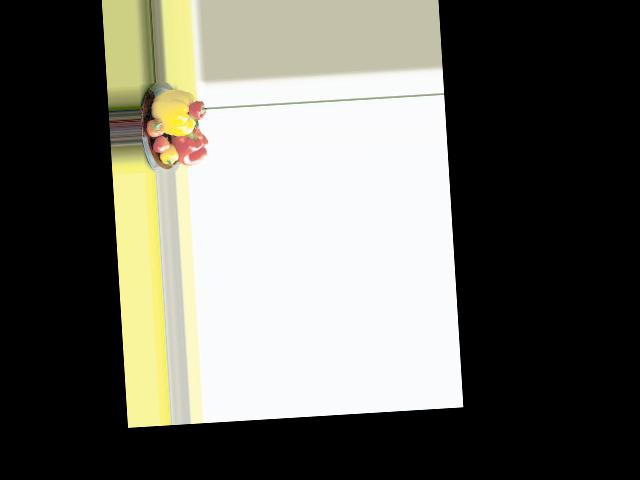bell_pepper: (160, 146, 179, 166)
